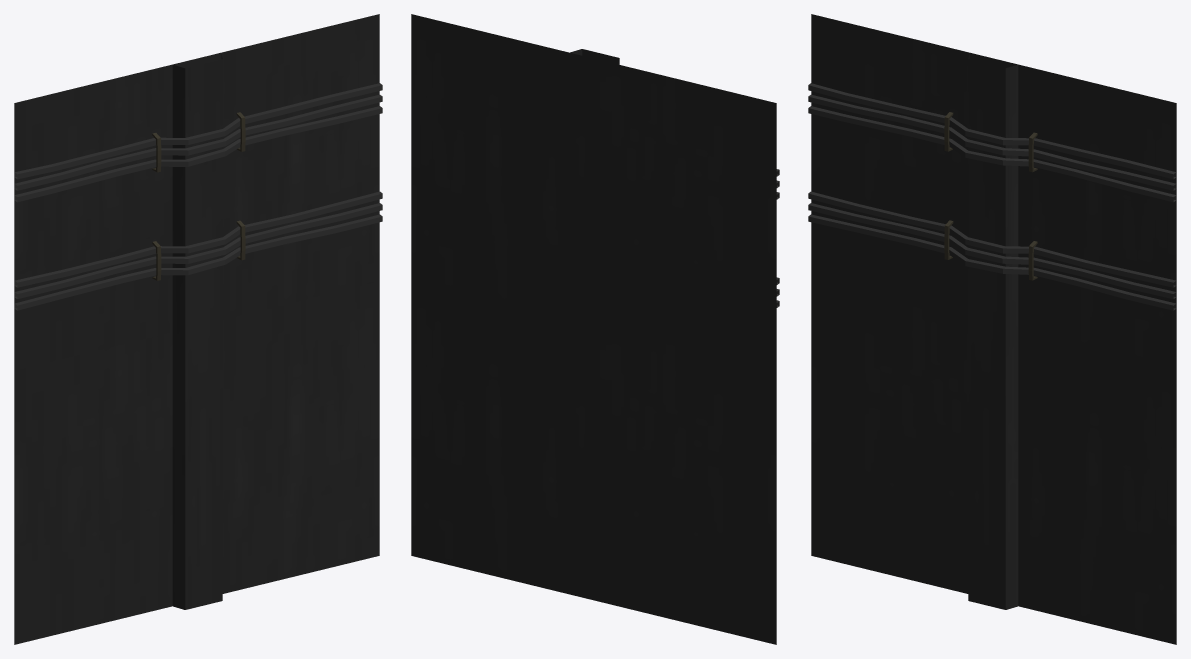
File: SW_ENV_RailTunnelWall_B_01a_03m_FF.fbx
3 views of the same model, side by side, from view 1: azimuth 30°, elevation 25°; view 2: azimuth 150°, elevation 25°; view 3: azimuth 330°, elevation 25° (orthographic).
Parts seen in each view (by area): view 1: SW_ENV_RailTunnelWall_B_01a_03m_FF; view 2: SW_ENV_RailTunnelWall_B_01a_03m_FF; view 3: SW_ENV_RailTunnelWall_B_01a_03m_FF.
Part boxes in pixels (bbox=[...]): SW_ENV_RailTunnelWall_B_01a_03m_FF: bbox=[14, 14, 382, 644]; SW_ENV_RailTunnelWall_B_01a_03m_FF: bbox=[411, 14, 779, 644]; SW_ENV_RailTunnelWall_B_01a_03m_FF: bbox=[808, 14, 1176, 644].
Size of the model in its own units: 300 by 425 by 14.53.
